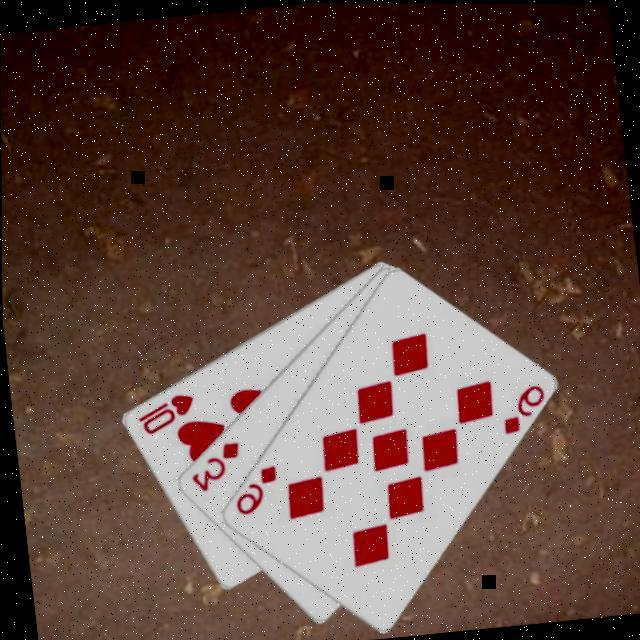10H: (131, 387, 199, 436)
3D: (184, 435, 247, 494)
9D: (227, 459, 282, 516), (495, 377, 550, 434)
